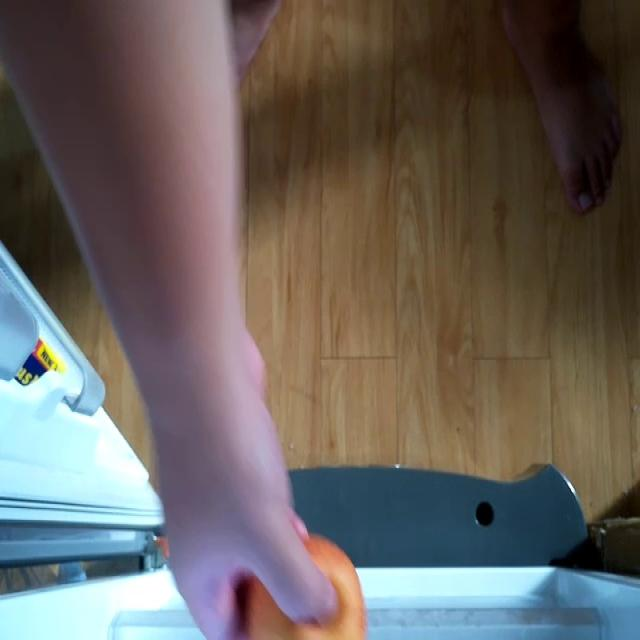apple: (246, 532, 367, 640)
